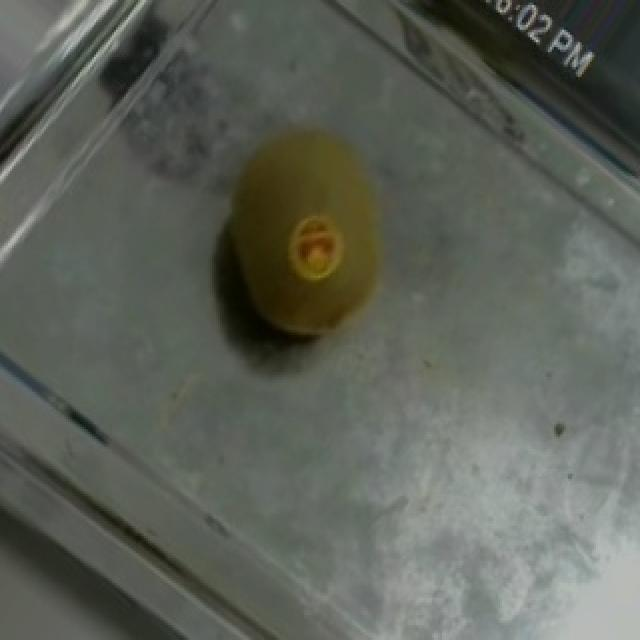Fruit: (170, 84, 442, 380)
